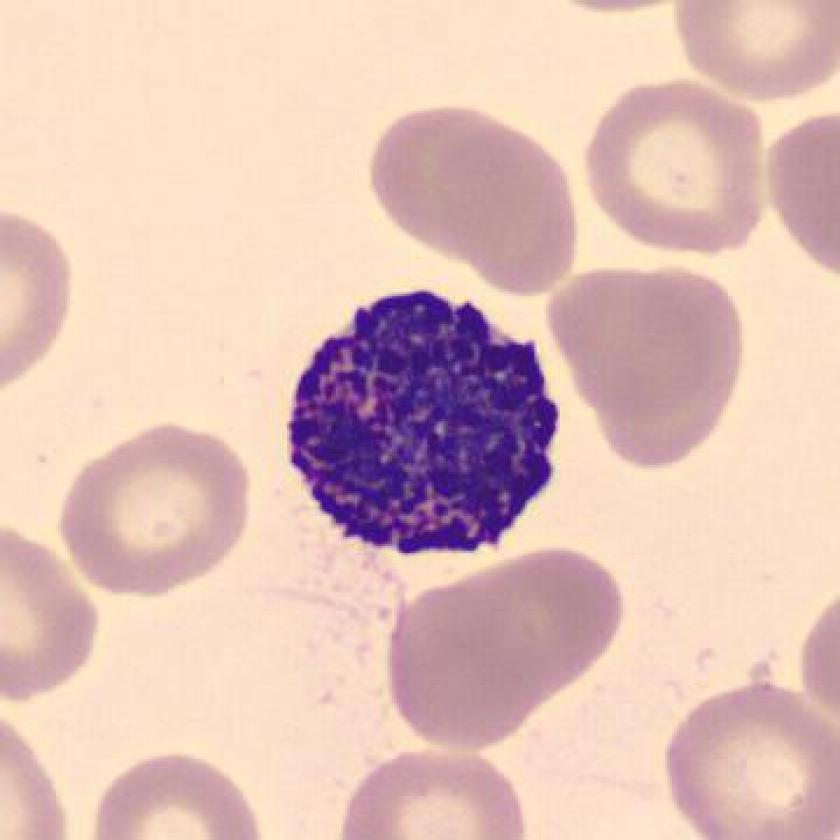basophil: (272, 270, 570, 571)
